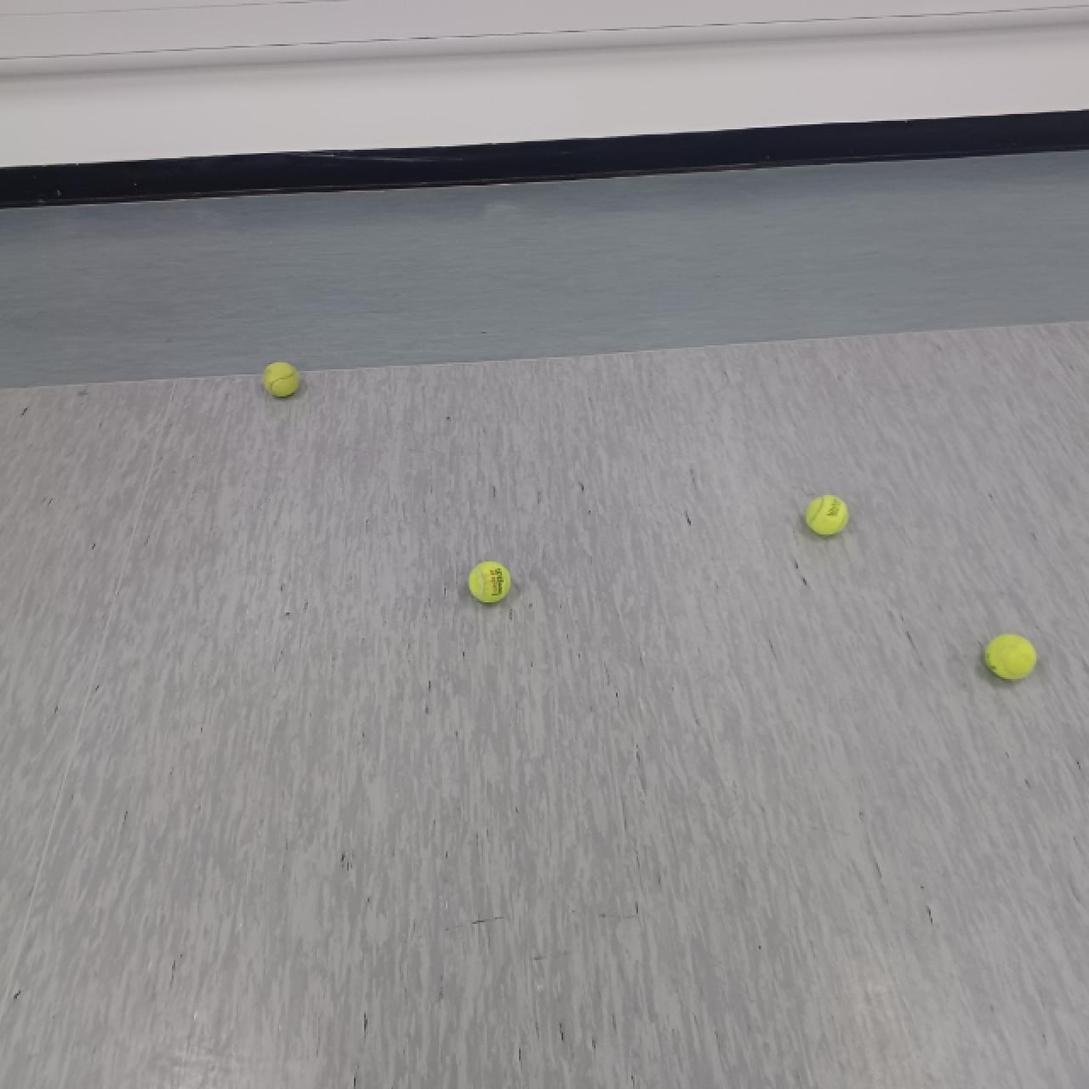tennis-ball: (984, 633, 1039, 681), (804, 494, 849, 539), (469, 560, 511, 603), (262, 360, 300, 399)
